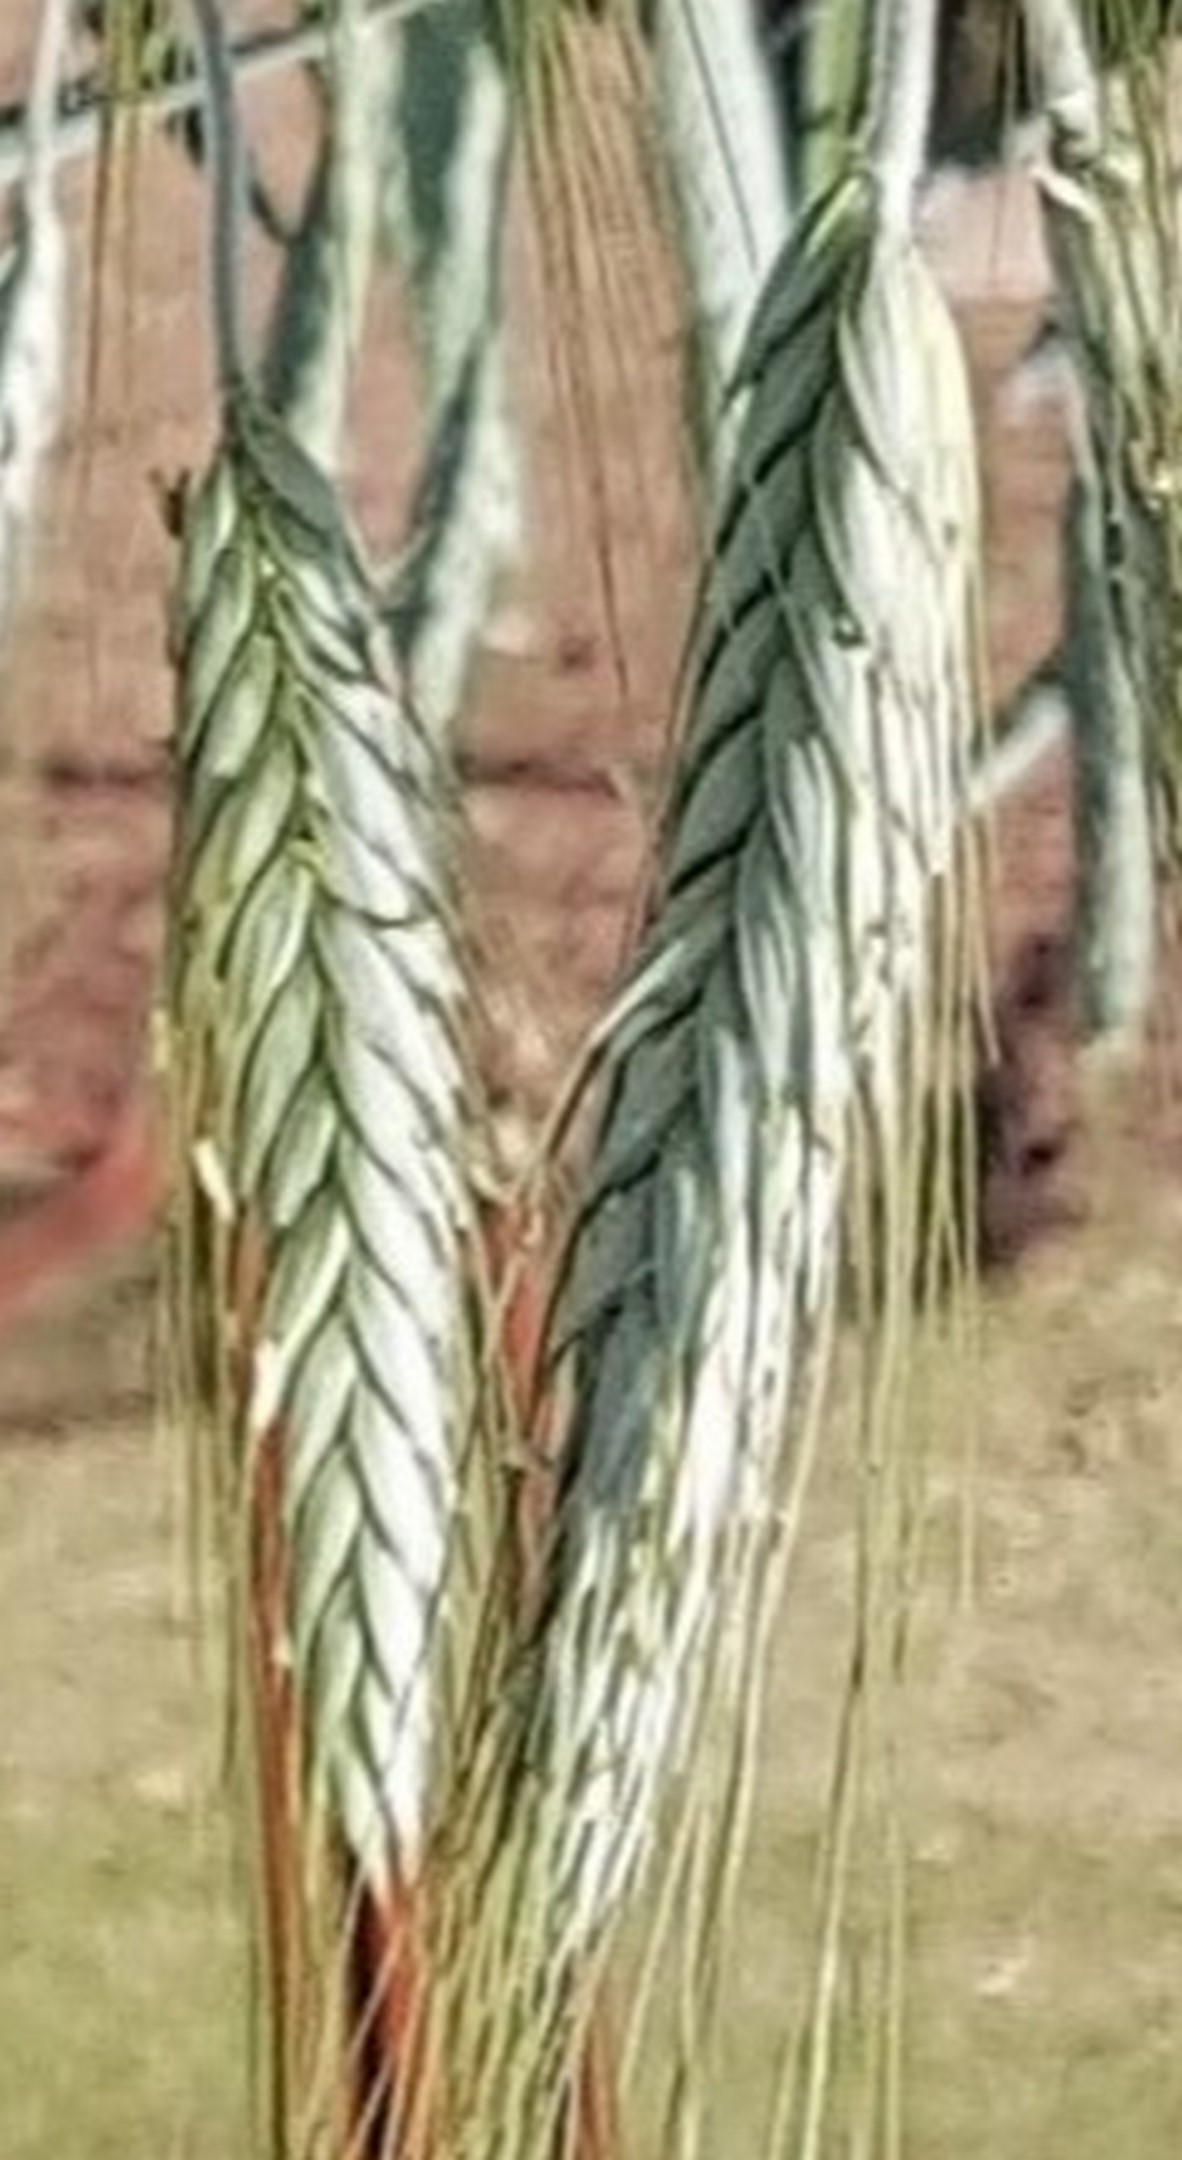Healthy Wheat: (162, 432, 493, 1886)
